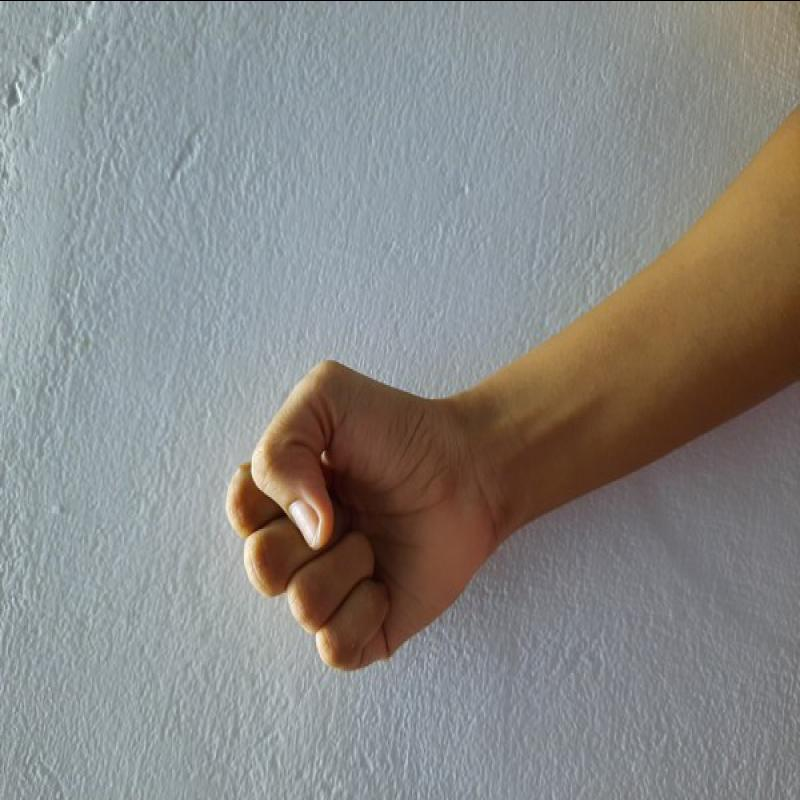Mushti: (208, 353, 513, 681)
